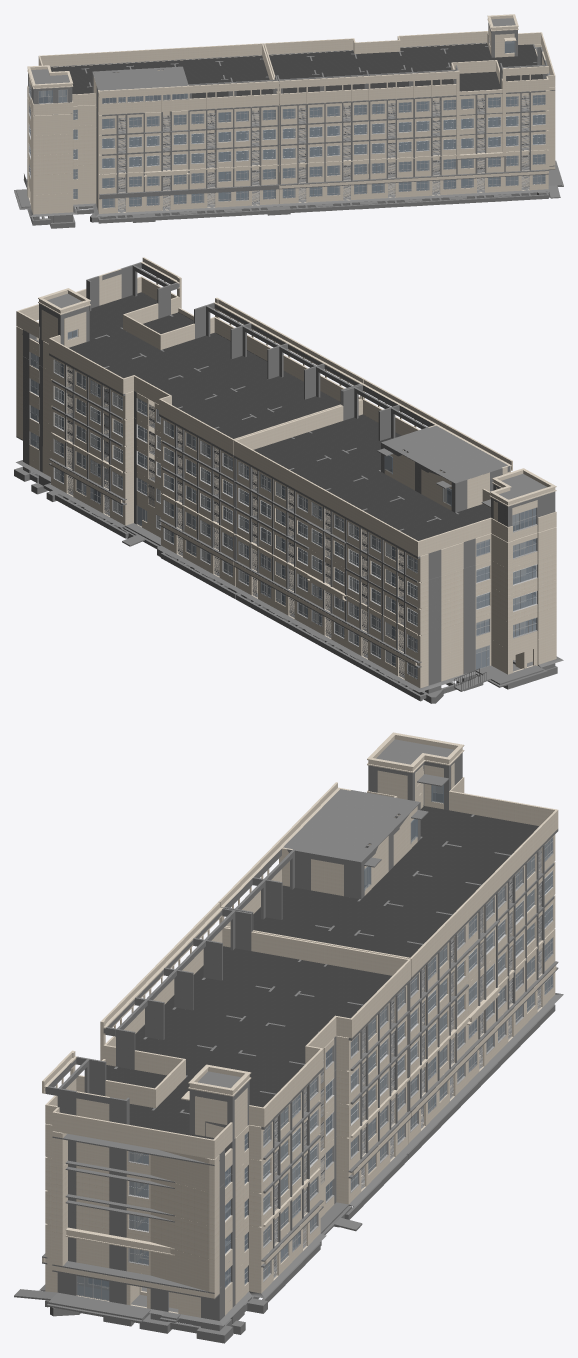
Rendered from 1xyss.gltf.
The picture shows the model from 3 angles, top to bottom: view 1: azimuth 30°, elevation 25°; view 2: azimuth 150°, elevation 25°; view 3: azimuth 270°, elevation 25°; orthographic projection. The views are drawn at different scales.
Visible parts, largest first — view 1: 1xyssdc01, 1xyss1c01, 1xyss2c01, 1xyss5c01, 1xyss3c01, 1xyss4c01; view 2: 1xyssdc01, 1xyss1c01, 1xyss2c01, 1xyss4c01, 1xyss3c01, 1xyss5c01; view 3: 1xyssdc01, 1xyss1c01, 1xyss2c01, 1xyss4c01, 1xyss3c01, 1xyss5c01.
Boxes of the visible parts, bbox=[...] form: 1xyssdc01: bbox=[27, 14, 555, 115]; 1xyss1c01: bbox=[14, 160, 563, 228]; 1xyss2c01: bbox=[27, 149, 555, 199]; 1xyss5c01: bbox=[27, 42, 555, 135]; 1xyss3c01: bbox=[27, 127, 555, 175]; 1xyss4c01: bbox=[27, 107, 555, 155]; 1xyssdc01: bbox=[16, 257, 556, 556]; 1xyss1c01: bbox=[14, 436, 563, 703]; 1xyss2c01: bbox=[16, 406, 556, 667]; 1xyss4c01: bbox=[16, 356, 556, 609]; 1xyss3c01: bbox=[16, 380, 556, 635]; 1xyss5c01: bbox=[16, 300, 556, 582]; 1xyssdc01: bbox=[42, 732, 558, 1159]; 1xyss1c01: bbox=[14, 962, 563, 1343]; 1xyss2c01: bbox=[42, 928, 558, 1299]; 1xyss4c01: bbox=[45, 862, 555, 1231]; 1xyss3c01: bbox=[45, 895, 555, 1264]; 1xyss5c01: bbox=[45, 814, 558, 1197].
Size of the model in its own units: 80.35 by 23.9 by 49.19.
12 materials, 7 textured.
